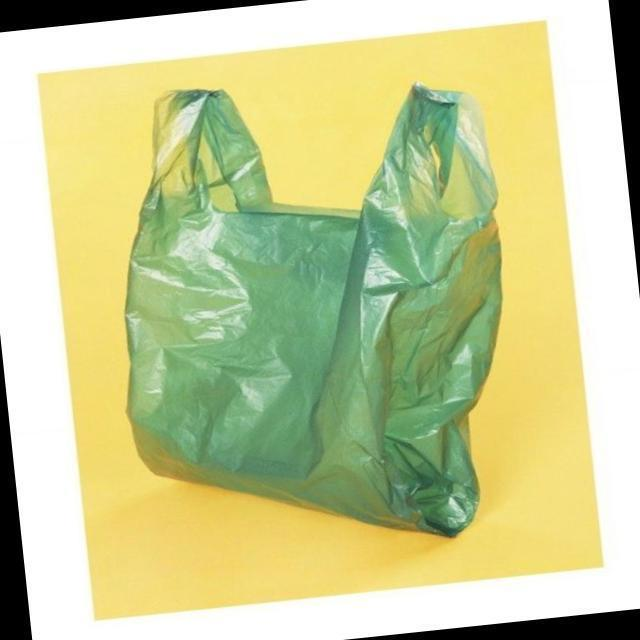Plastic_Bag: (100, 56, 530, 570)
